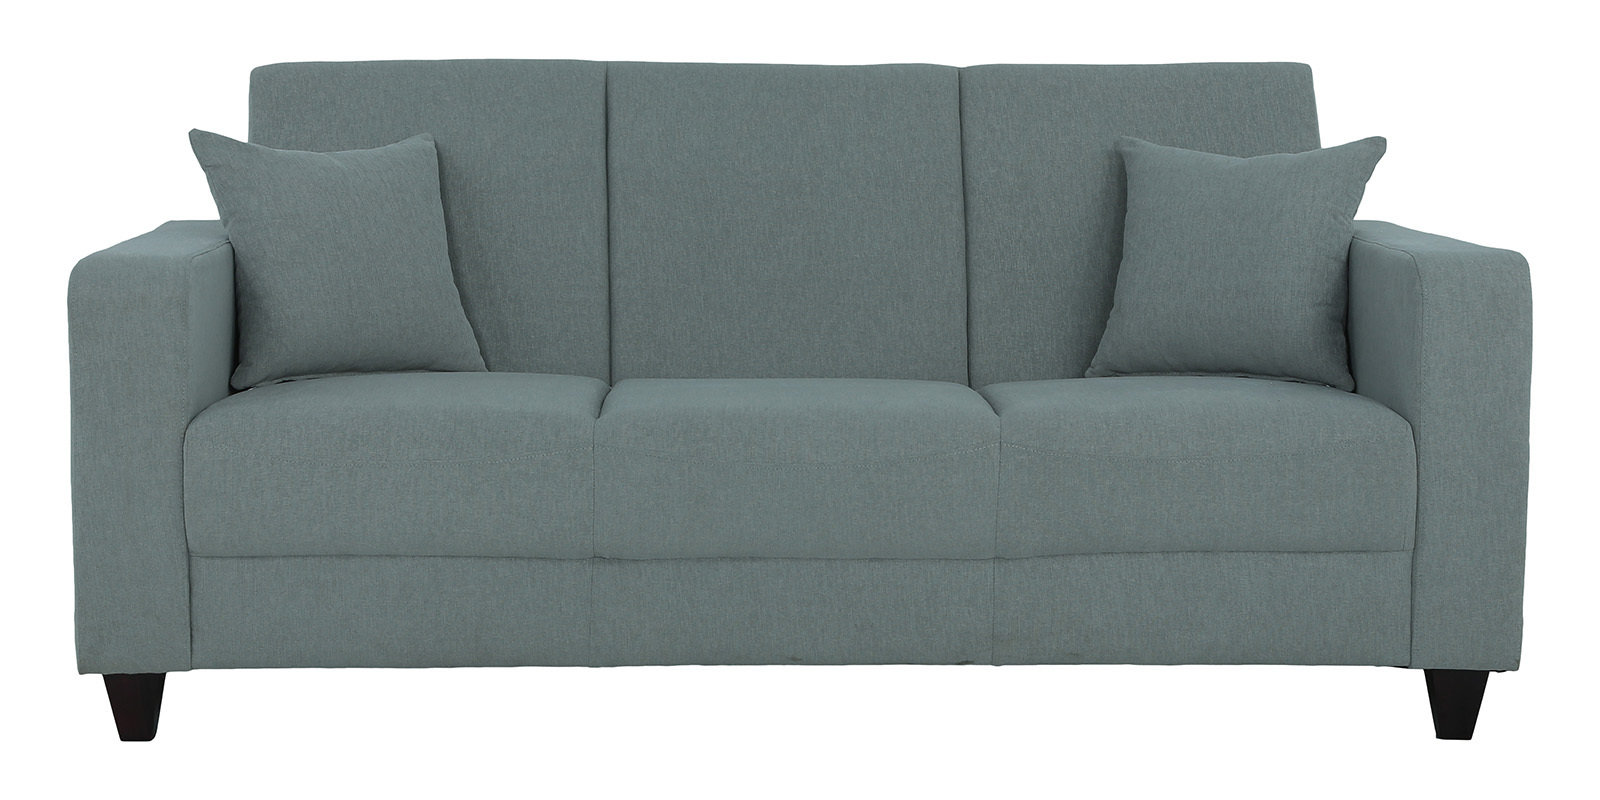Alba Three Seater Sofa in Ash Grey Colour by CasaCraft: (57, 53, 1538, 739)
